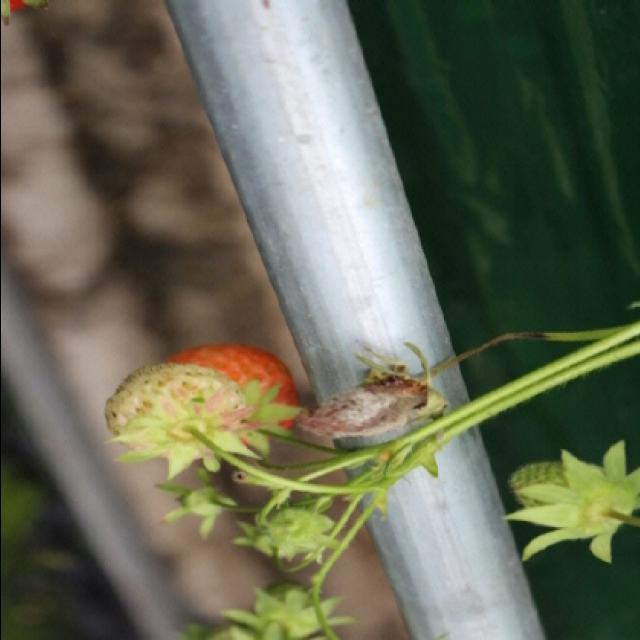Gray Mold: (293, 361, 447, 440)
